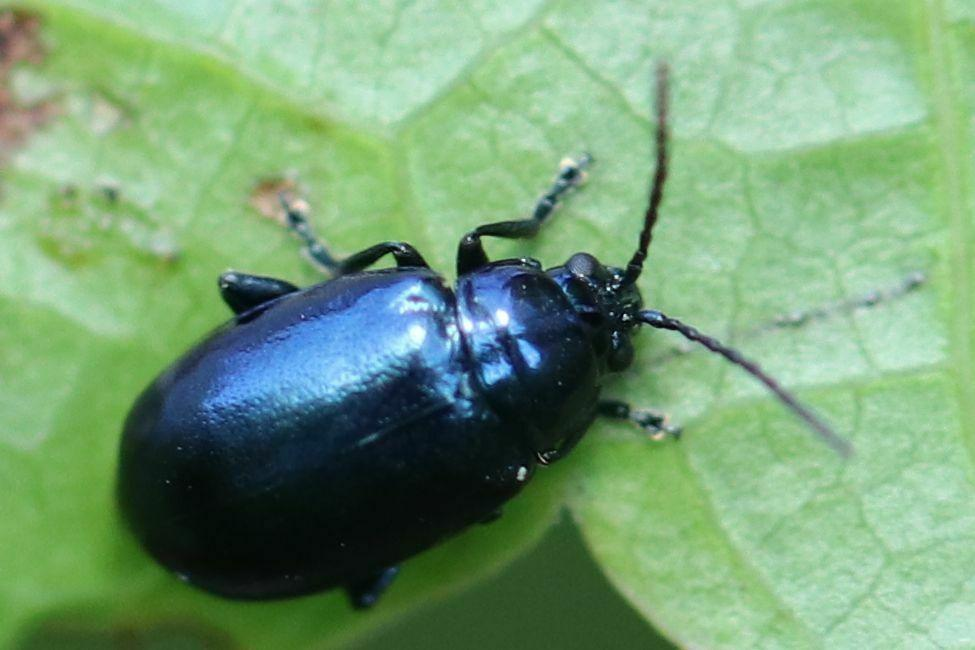flea_beetle: (1, 0, 954, 650)
